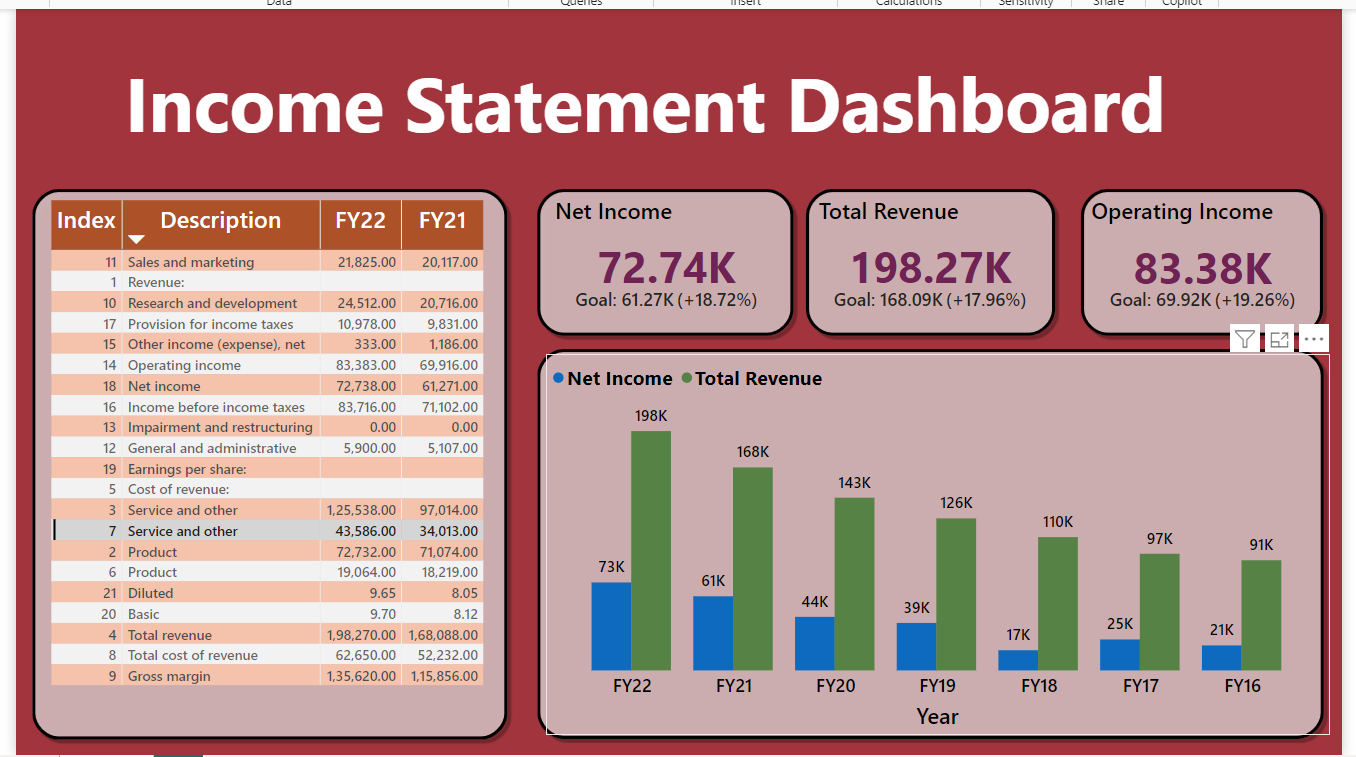

The page's visual inventory and layout, read from the dashboard file:
{"tool":"powerbi","page":{"name":"Page 1","canvas":[1280,720],"ordinal":0},"visuals":[{"type":"shape","box":[9.6,167.4,470.7,543.4],"z":0},{"type":"shape","box":[496.7,322.5,771.2,388.3],"z":1000},{"type":"shape","box":[496.7,167.4,259.3,153.7],"z":2000},{"type":"shape","box":[756.1,167.4,252.5,153.7],"z":3000},{"type":"shape","box":[1022.3,167.4,245.6,153.7],"z":4000},{"type":"tableEx","fields":{"Values":["Yearly Income Statements.Index","Yearly Income Statements.Description","Yearly Income Statements.FY22","Yearly Income Statements.FY21"]},"box":[27.4,179.8,433.6,483],"z":5000},{"type":"kpi","title":"Net Income","fields":{"Indicator":["Sum(Net income.FY22)"],"TrendLine":["Net income.Description"],"Goal":["Sum(Net income.FY21)"]},"box":[514.6,179.8,225,129],"z":5001},{"type":"kpi","title":"Total Revenue","fields":{"TrendLine":["Net income.Description"],"Indicator":["Sum(Total Revenue.FY22)"],"Goal":["Sum(Total Revenue.FY21)"]},"box":[769.8,179.8,225,129],"z":5002},{"type":"kpi","title":"Operating Income","fields":{"TrendLine":["Net income.Description"],"Indicator":["Sum(Operating income.FY22)"],"Goal":["Sum(Operating income.FY21)"]},"box":[1033.3,179.8,225,130.4],"z":5003},{"type":"clusteredColumnChart","fields":{"Category":["Table.Description"],"Y":["Sum(Table.Net income)","Sum(Table.      Total revenue)"]},"box":[511.8,333.4,756.1,367.8],"z":5004},{"type":"textbox","box":[100.2,35.7,1045.6,119.4],"z":5005}]}

Visuals, with their boxes in screenshot pixels (x1, y1, x2, y2):
shape: <bbox>13, 187, 501, 750</bbox>
shape: <bbox>518, 348, 1316, 750</bbox>
shape: <bbox>518, 187, 786, 346</bbox>
shape: <bbox>786, 187, 1047, 346</bbox>
shape: <bbox>1062, 187, 1316, 346</bbox>
tableEx - Yearly Income Statements.Index x Yearly Income Statements.Description: <bbox>32, 200, 481, 700</bbox>
"Net Income" kpi: <bbox>536, 200, 769, 334</bbox>
"Total Revenue" kpi: <bbox>800, 200, 1033, 334</bbox>
"Operating Income" kpi: <bbox>1073, 200, 1306, 335</bbox>
clusteredColumnChart - Table.Description x Sum(Table.Net income): <bbox>533, 359, 1316, 740</bbox>
textbox: <bbox>107, 51, 1190, 175</bbox>
